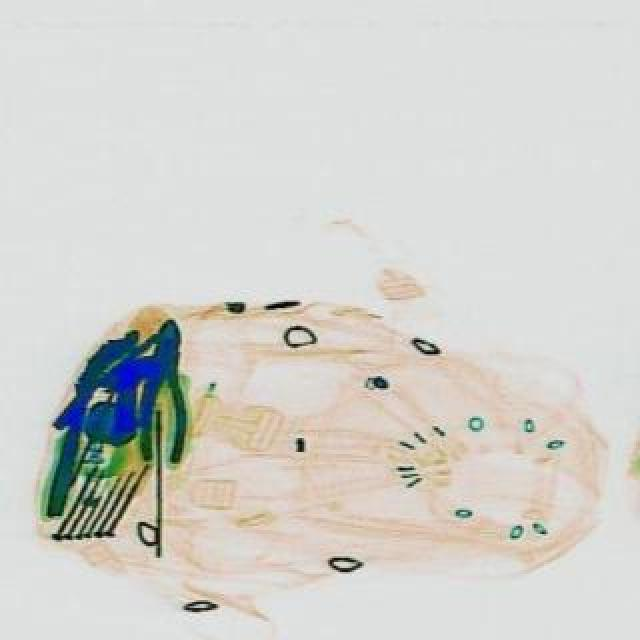wrench: (140, 316, 200, 462)
